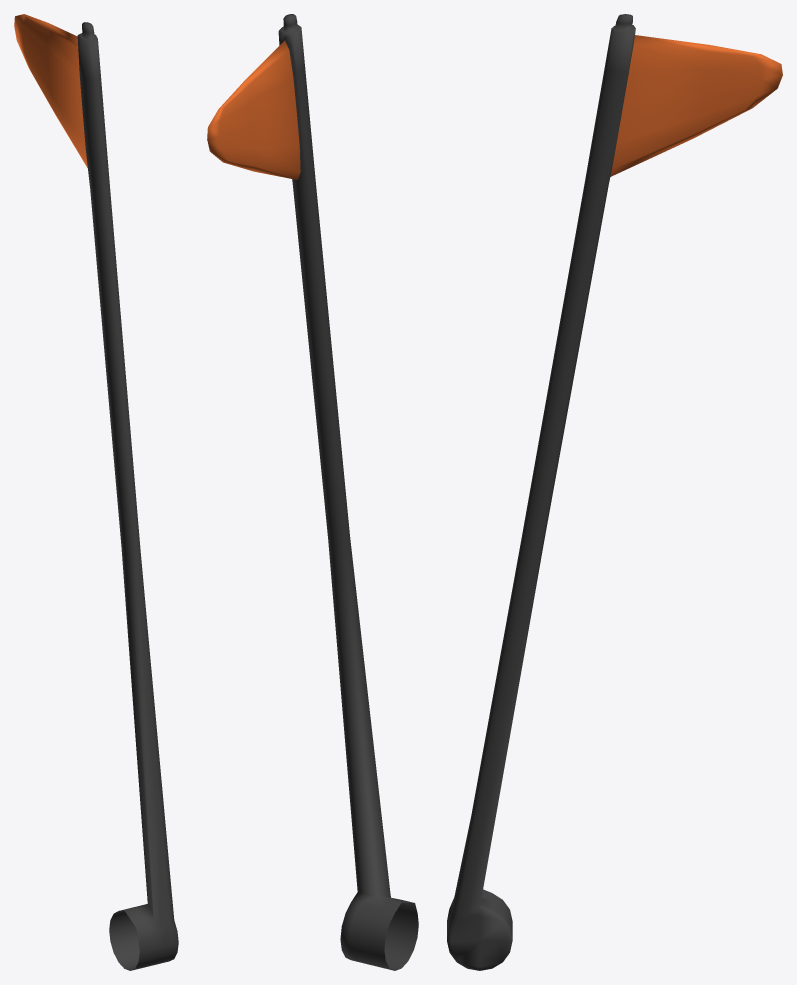
Rendered from Flag.fbx.
3 renders of one model, left to right at view 1: azimuth 30°, elevation 25°; view 2: azimuth 150°, elevation 25°; view 3: azimuth 270°, elevation 25°, orthographic. The views are drawn at different scales.
Parts seen in each view (by area): view 1: Flag; view 2: Flag; view 3: Flag.
Part boxes in pixels (bbox=[...]): Flag: bbox=[14, 14, 178, 970]; Flag: bbox=[207, 14, 418, 970]; Flag: bbox=[447, 14, 782, 970].
Bounding box in the file's own units: 4.06 × 88.19 × 28.21.
